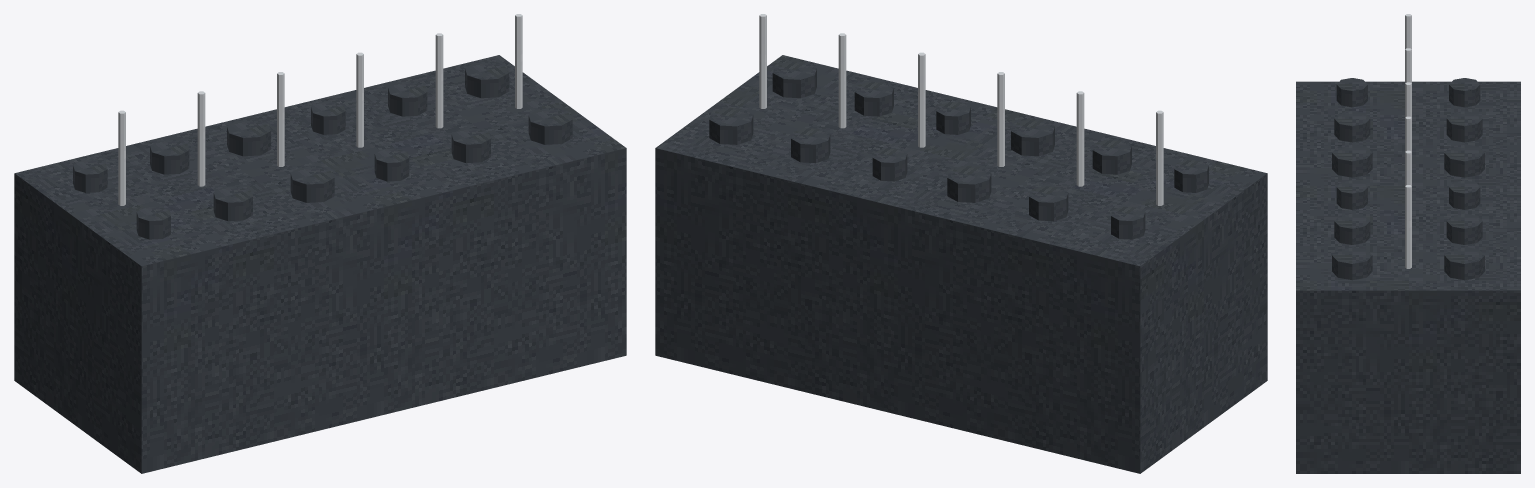
3 renders of one model, left to right at view 1: azimuth 30°, elevation 25°; view 2: azimuth 150°, elevation 25°; view 3: azimuth 270°, elevation 25°, orthographic. The views are drawn at different scales.
Visible parts, largest first — view 1: Decor_dumbbell_rack; view 2: Decor_dumbbell_rack; view 3: Decor_dumbbell_rack.
Part boxes in pixels (left/top/right/bottom): Decor_dumbbell_rack: left=14, top=14, right=626, bottom=473; Decor_dumbbell_rack: left=655, top=14, right=1267, bottom=473; Decor_dumbbell_rack: left=1296, top=14, right=1520, bottom=473.
Bounding box in the file's own units: 2.2 × 1.32 × 1.
2 materials, 2 textured.
